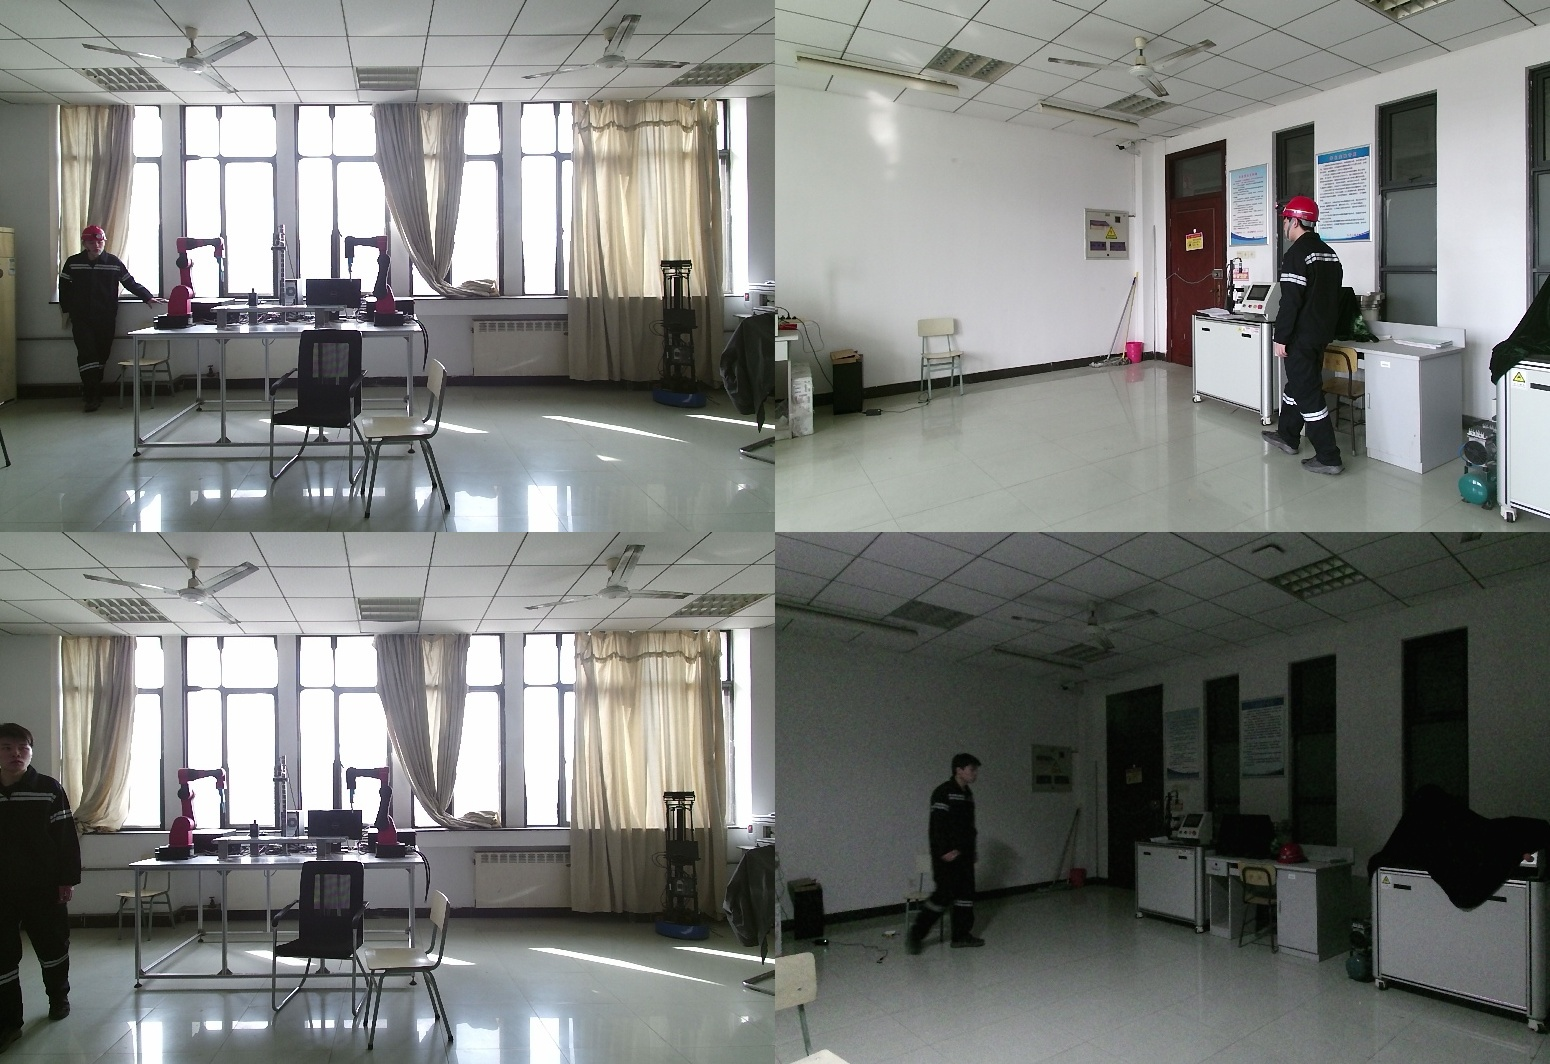person: (3, 723, 88, 1048), (1270, 194, 1351, 471), (55, 226, 159, 411), (898, 755, 987, 968)
